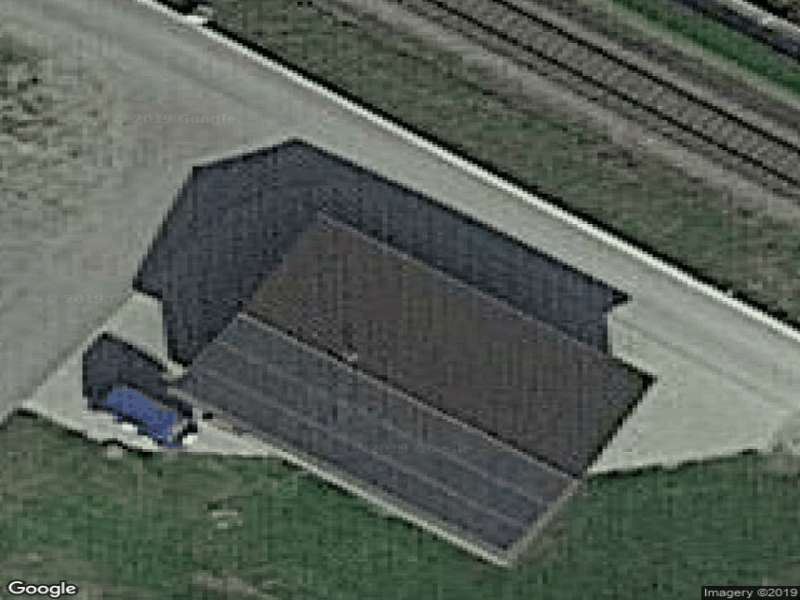pv: (180, 314, 571, 556)
